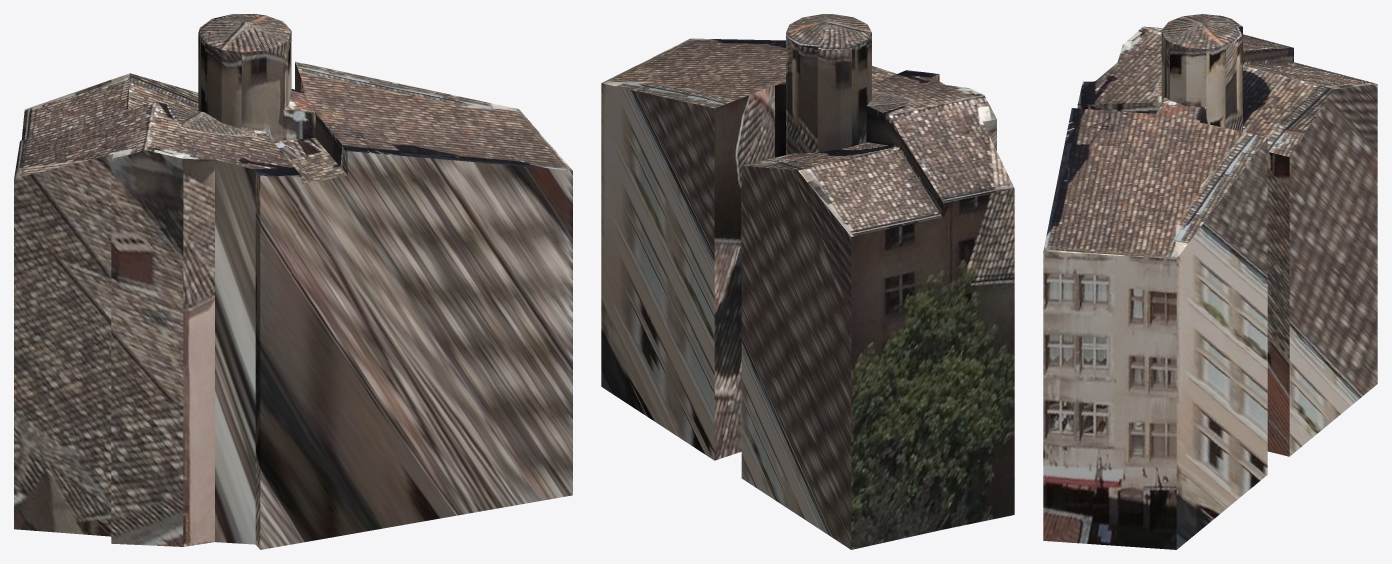
3 views of the same model, side by side, from view 1: azimuth 30°, elevation 25°; view 2: azimuth 150°, elevation 25°; view 3: azimuth 270°, elevation 25° (orthographic). The views are drawn at different scales.
Visible parts, largest first — view 1: Z_UP; view 2: Z_UP; view 3: Z_UP.
Boxes of the visible parts, bbox=[...] form: Z_UP: bbox=[14, 14, 572, 549]; Z_UP: bbox=[601, 14, 1014, 549]; Z_UP: bbox=[1043, 14, 1377, 549].
Size of the model in its own units: 22.35 by 20.94 by 15.29.
2 materials, 1 textured.
